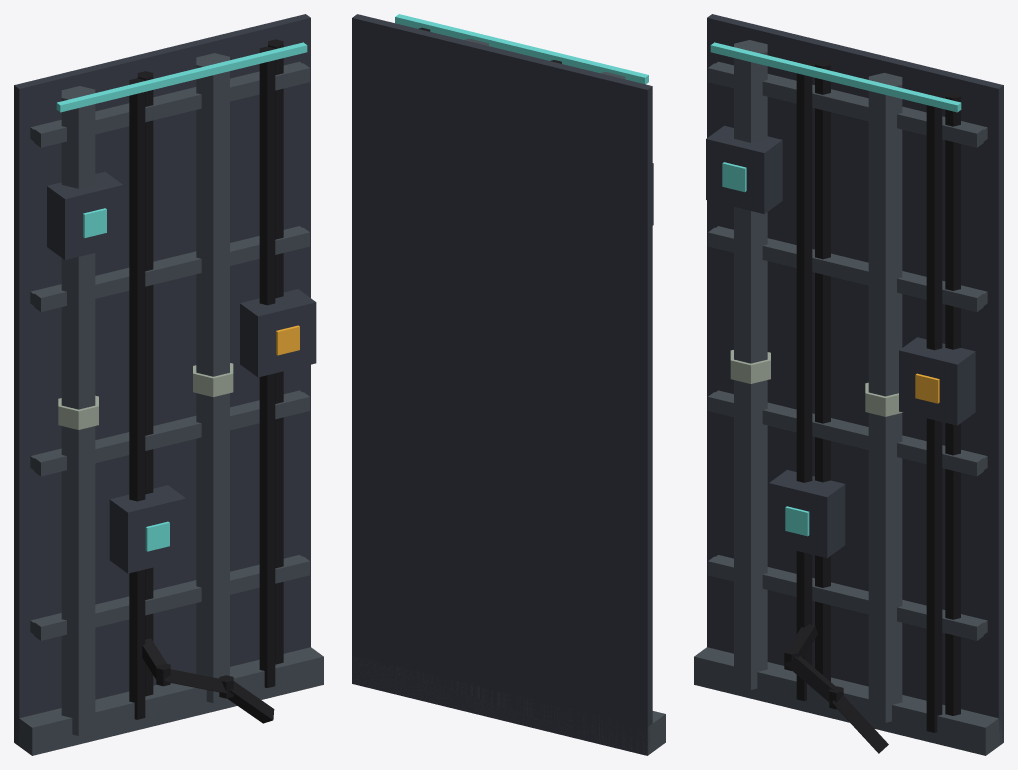
File: GV_ShipConduit_01.glb
3 views of the same model, side by side, from view 1: azimuth 30°, elevation 25°; view 2: azimuth 150°, elevation 25°; view 3: azimuth 330°, elevation 25° (orthographic).
Parts seen in each view (by area): view 1: GV_ShipConduit_01; view 2: GV_ShipConduit_01; view 3: GV_ShipConduit_01.
Part boxes in pixels (x1,y1,x2,y2): GV_ShipConduit_01: (14, 14, 323, 755); GV_ShipConduit_01: (352, 14, 665, 755); GV_ShipConduit_01: (694, 14, 1003, 755).
Size of the model in its own units: 1.3 by 2.81 by 0.3752.
Materials: 1 (1 with a texture image).
